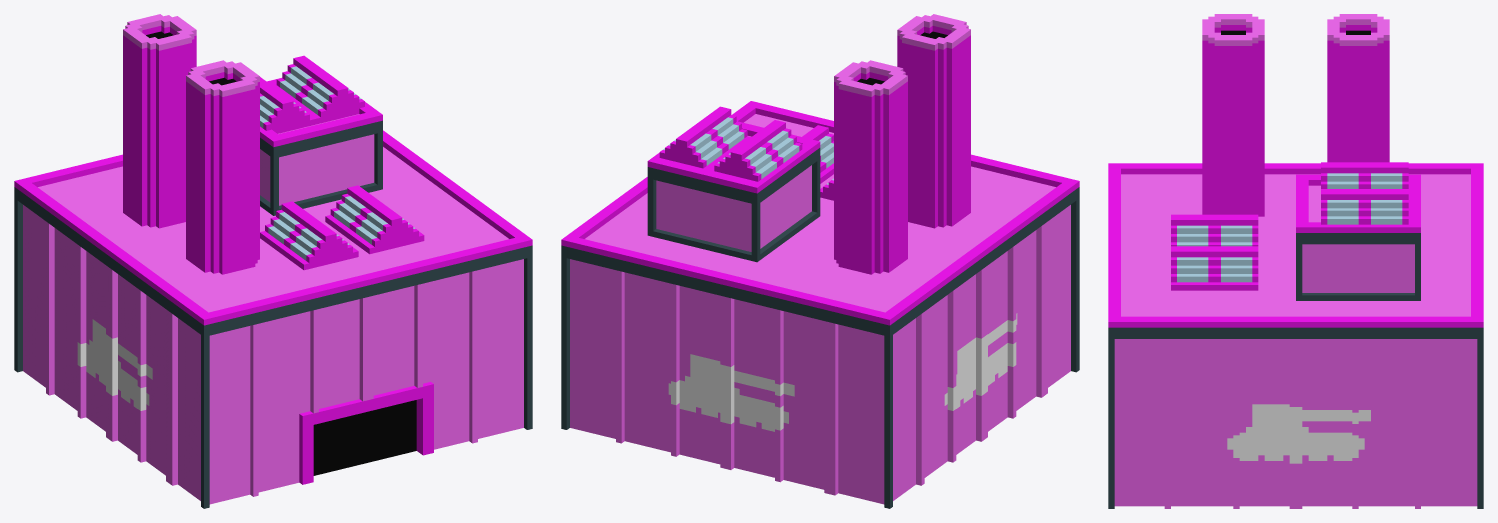
File: factory.obj
3 renders of one model, left to right at view 1: azimuth 30°, elevation 25°; view 2: azimuth 150°, elevation 25°; view 3: azimuth 270°, elevation 25°, orthographic.
Bounding box in the file's own units: 6 × 6.4 × 6.
1 material, 1 textured.
